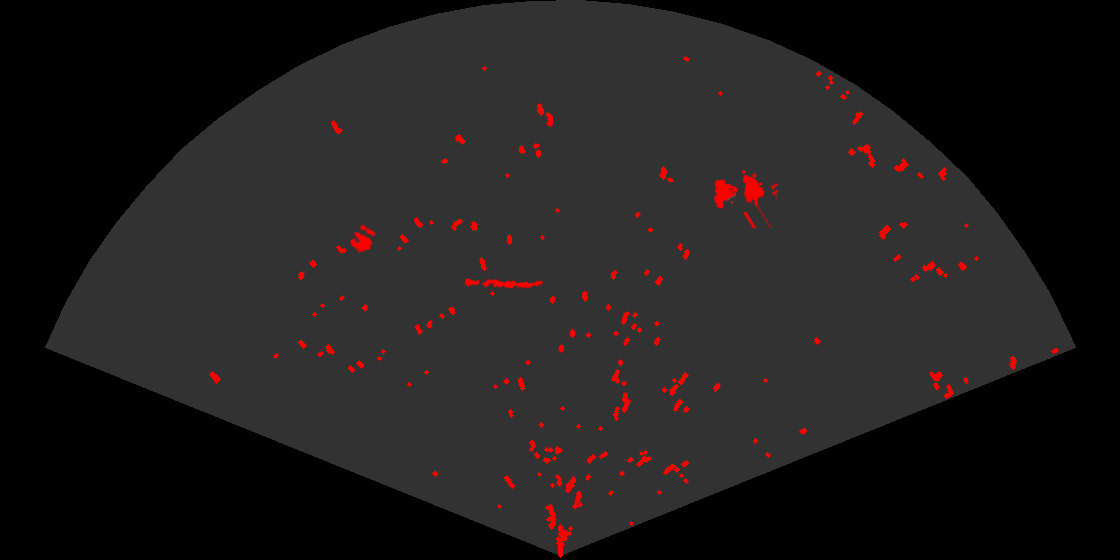ball: (348, 223, 377, 254)
cage: (712, 168, 778, 228)
chain: (463, 277, 544, 290)
